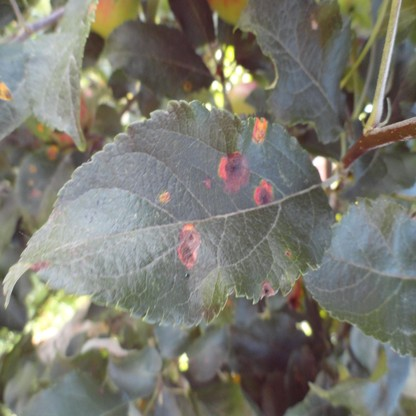rust: (219, 152, 248, 193), (178, 224, 201, 268), (254, 182, 273, 204), (289, 277, 302, 309), (253, 117, 268, 143), (0, 82, 14, 102), (262, 281, 274, 295), (47, 148, 59, 159), (159, 191, 169, 202), (182, 80, 191, 91), (202, 179, 212, 188), (285, 249, 292, 259), (29, 163, 36, 172), (28, 178, 34, 184), (38, 125, 43, 131)
